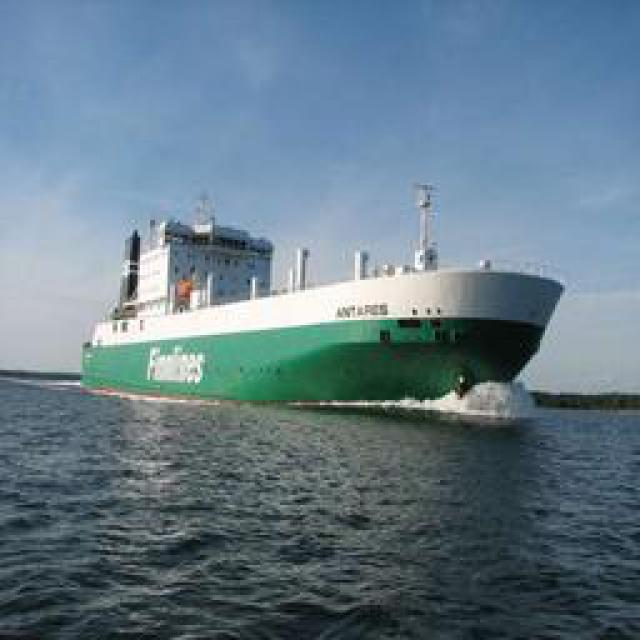Ship: (86, 180, 556, 410)
